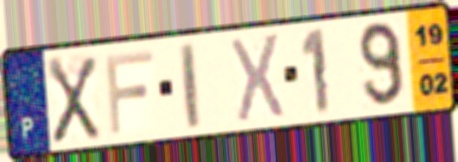1: (299, 25, 333, 118)
9: (357, 18, 407, 112)
F: (102, 47, 156, 136)
I: (177, 39, 203, 131)
X: (228, 29, 286, 125), (44, 54, 102, 147)
